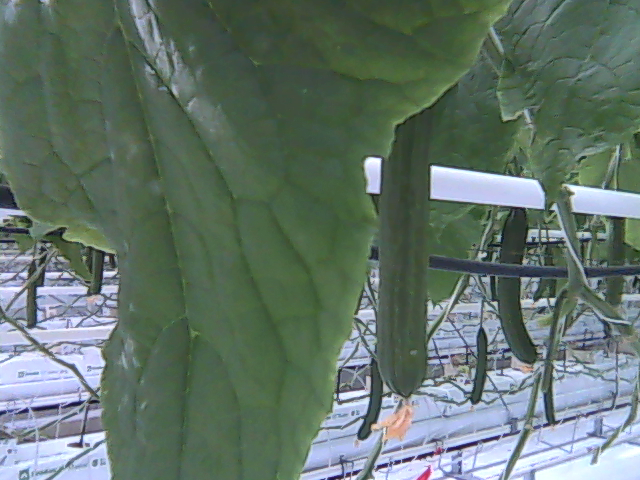concombre: (374, 104, 437, 446)
